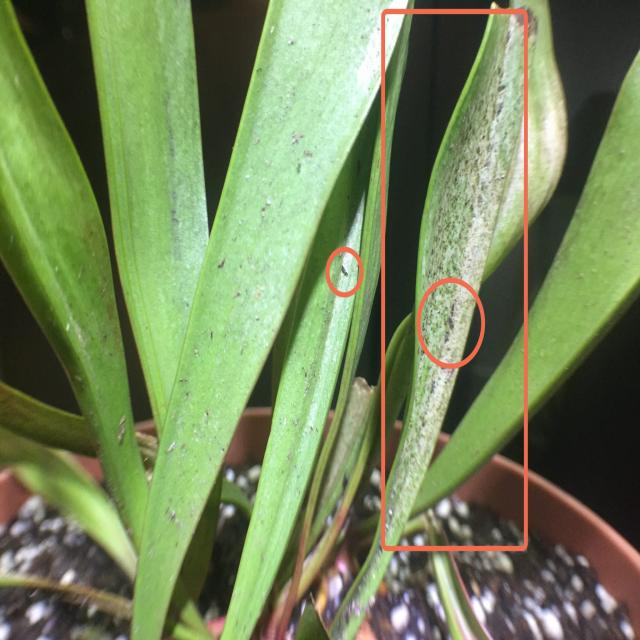Thrip-Adult-: (446, 315, 457, 330), (443, 328, 452, 346), (448, 300, 456, 316), (340, 264, 348, 277)
